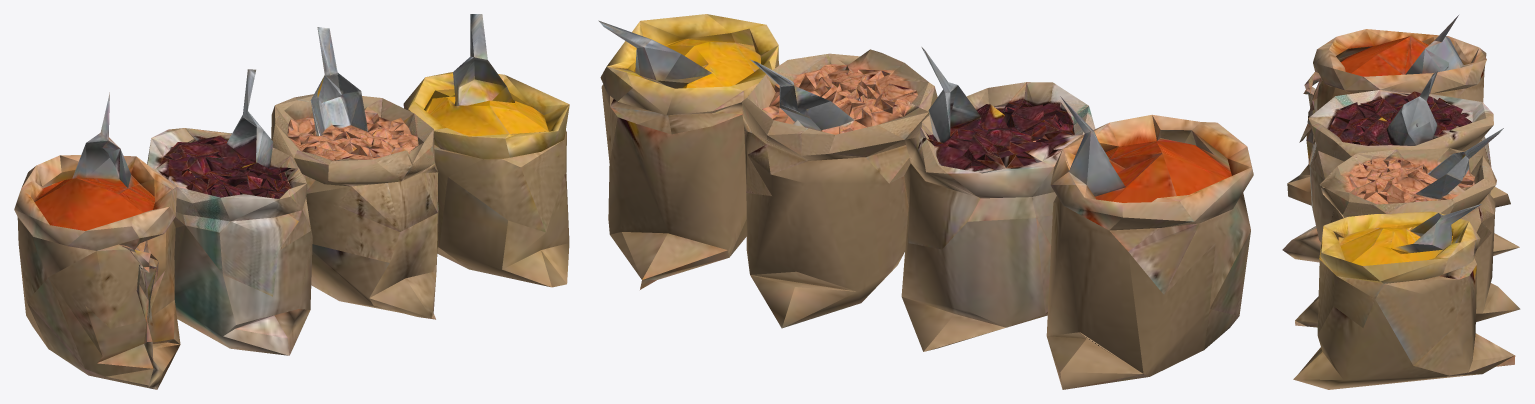
File: spices.glb
The picture shows the model from 3 angles, left to right: view 1: azimuth 30°, elevation 25°; view 2: azimuth 150°, elevation 25°; view 3: azimuth 270°, elevation 25°; orthographic projection. The views are drawn at different scales.
Size of the model in its own units: 1.88 by 0.7613 by 0.8046.
1 material, 1 textured.
